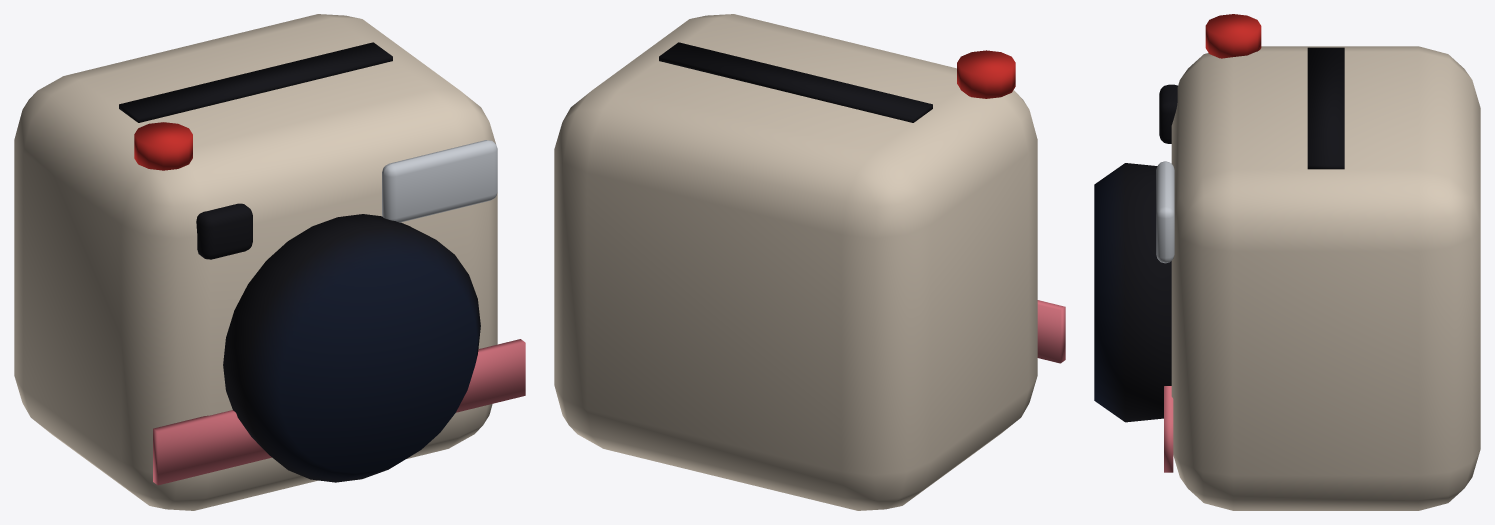
Rendered from camera_instant.glb.
3 renders of one model, left to right at view 1: azimuth 30°, elevation 25°; view 2: azimuth 150°, elevation 25°; view 3: azimuth 270°, elevation 25°, orthographic. The views are drawn at different scales.
Visible parts, largest first — view 1: camera_instant; view 2: camera_instant; view 3: camera_instant.
Boxes of the visible parts, bbox=[...] form: camera_instant: bbox=[14, 14, 525, 510]; camera_instant: bbox=[554, 14, 1065, 510]; camera_instant: bbox=[1094, 14, 1480, 510].
Bounding box in the file's own units: 0.13 × 0.127 × 0.125.
